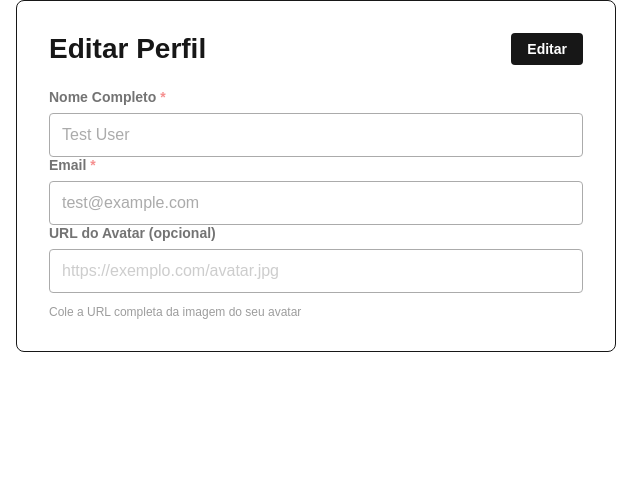
Scenario: ProfileForm › should validate required fields
Click the button "Editar" at (547, 49), box [511, 33, 583, 65]
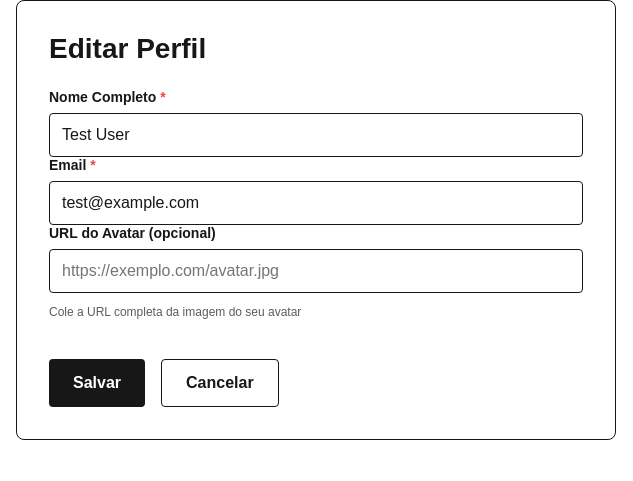
Clear the field showing "Test User" at (316, 135), box [49, 113, 583, 157]
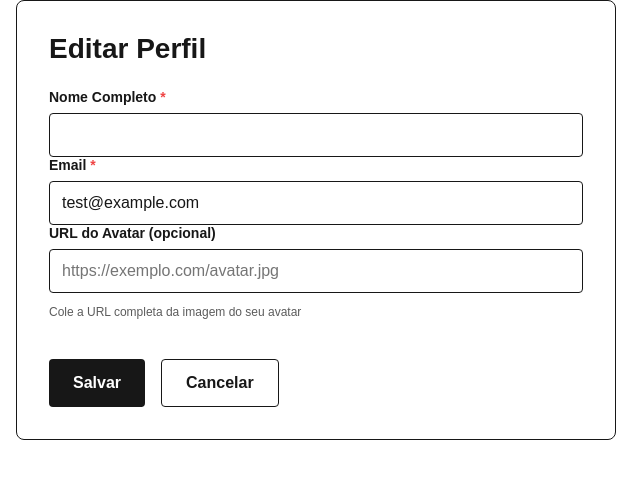
Click the button "Salvar" at (97, 383), box [49, 359, 145, 407]
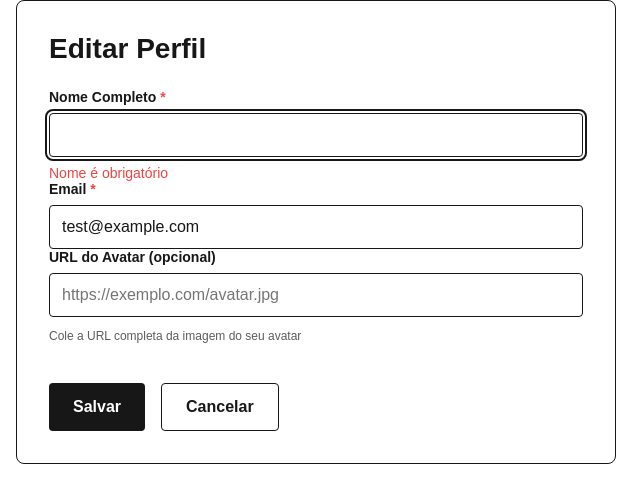
Expected: the text "Nome é obrigatório" is shown, [49, 165, 168, 181]
